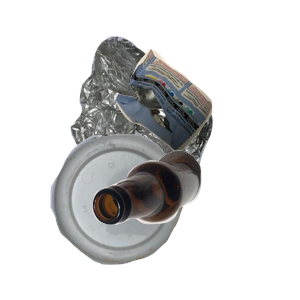glass: (90, 148, 300, 300)
metal: (68, 34, 300, 214)
plastic: (48, 132, 224, 300)
trash: (113, 46, 300, 189)
